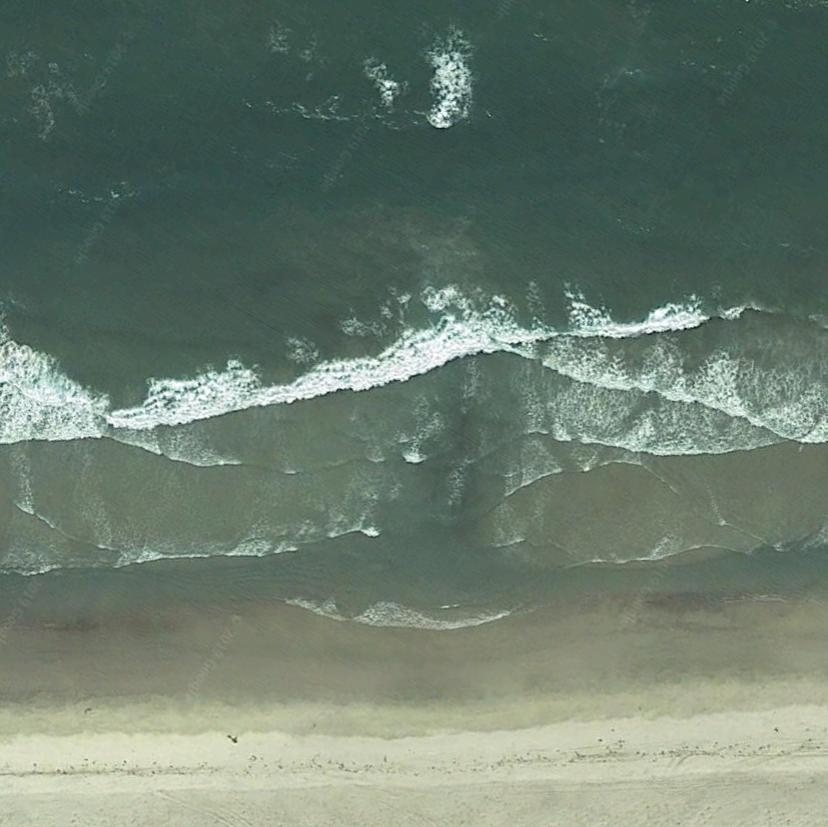rip_current: (338, 197, 533, 599)
